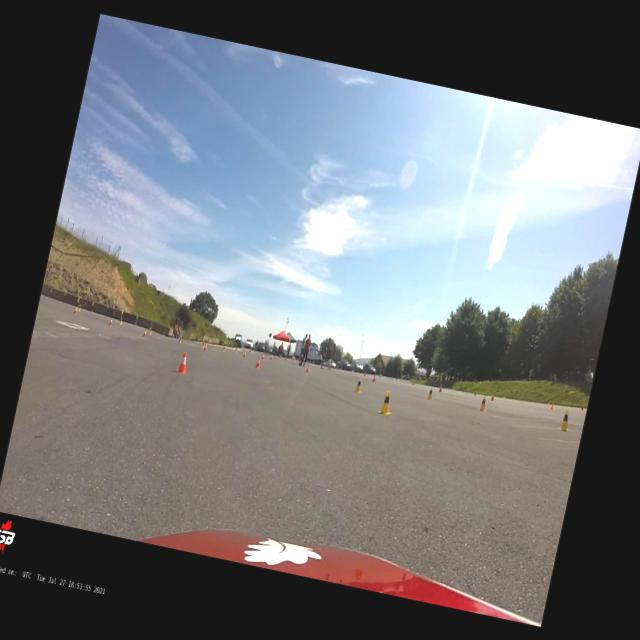orange_cone: (177, 352, 189, 374), (256, 357, 260, 368), (371, 374, 376, 382), (74, 305, 78, 314), (305, 364, 309, 372), (438, 384, 442, 392), (490, 392, 494, 400), (108, 317, 112, 325), (203, 342, 207, 350), (142, 329, 146, 336), (550, 404, 554, 409), (243, 352, 245, 357), (262, 355, 264, 359), (270, 356, 272, 360), (474, 392, 476, 396)
yellow_cone: (376, 390, 394, 416), (558, 408, 572, 432), (478, 394, 488, 412), (353, 378, 362, 393), (426, 386, 434, 401), (147, 327, 152, 335), (77, 303, 81, 311), (201, 340, 205, 348), (178, 336, 182, 343), (119, 316, 122, 324), (222, 346, 225, 351), (235, 348, 238, 353), (242, 349, 244, 353), (249, 350, 251, 353)
